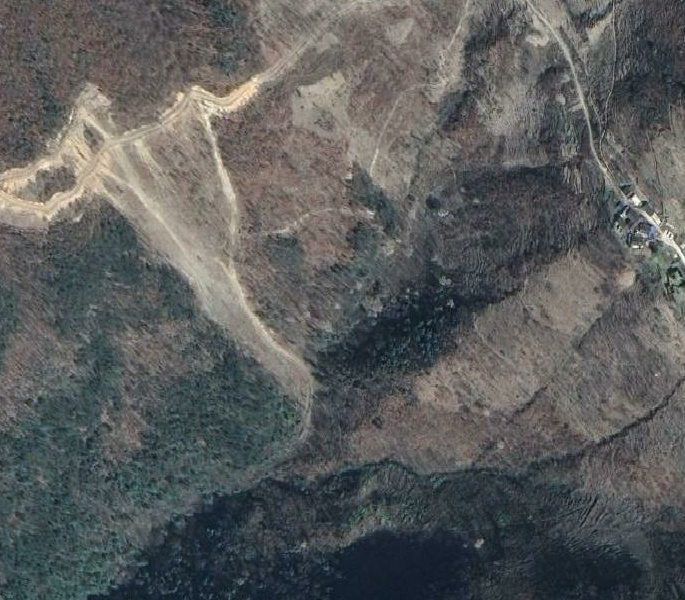slope: (87, 104, 307, 398)
